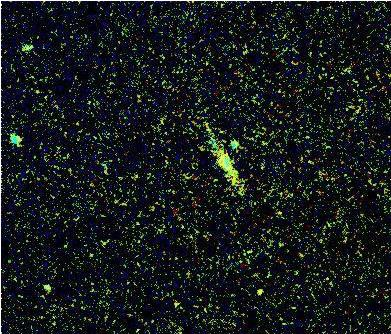star: (250, 282, 280, 312)
